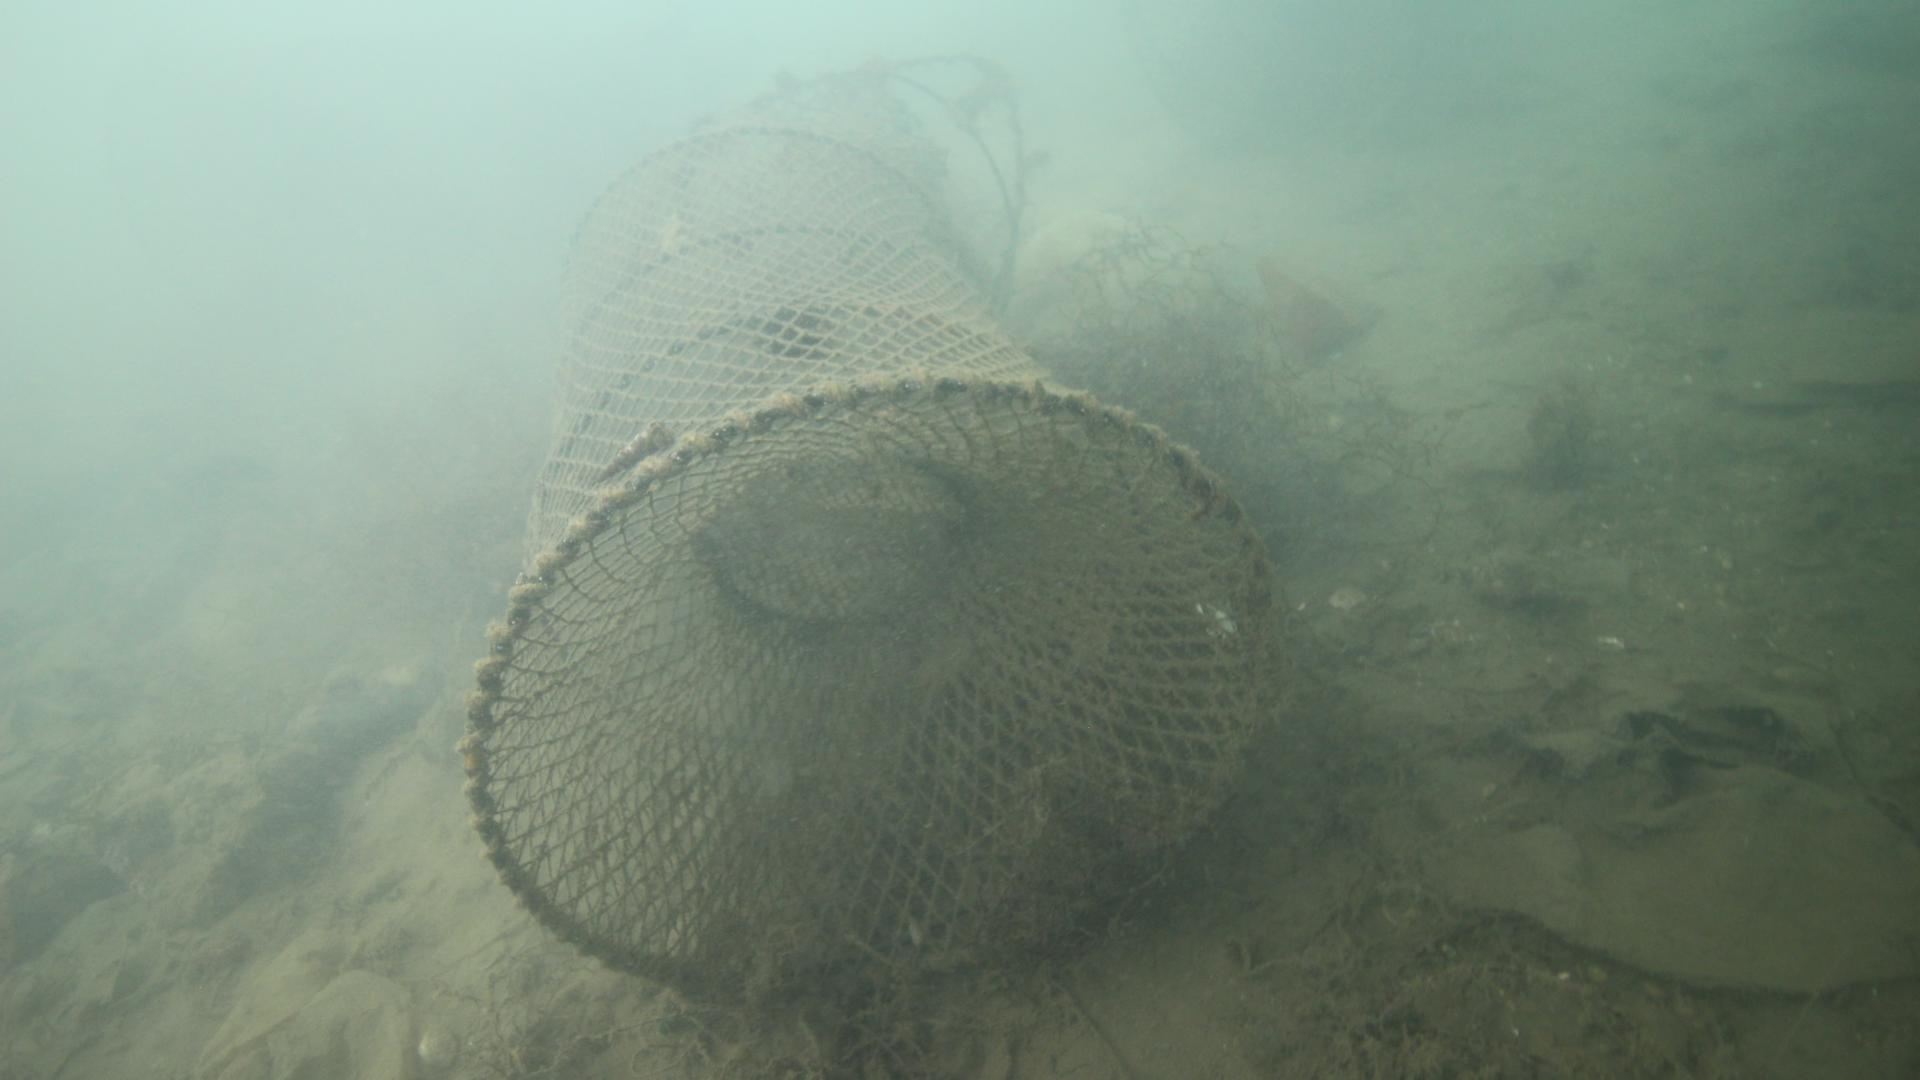spring fish trap: (462, 71, 1280, 1010)
